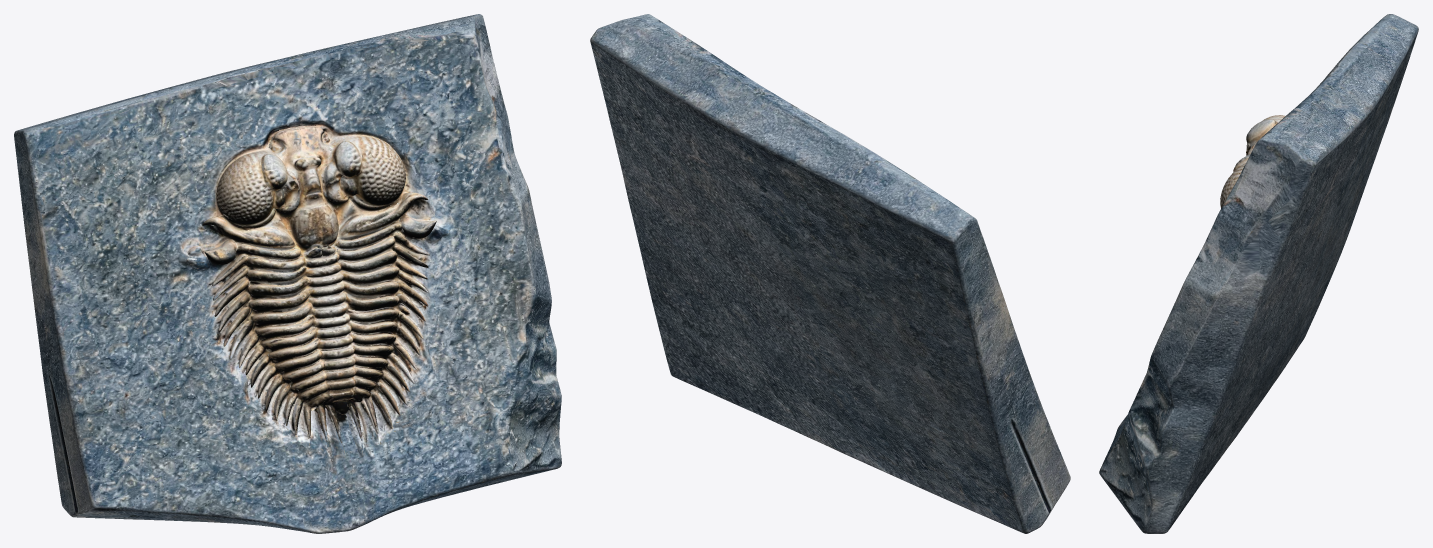
The model's file is trilobite.glb.
3 renders of one model, left to right at view 1: azimuth 30°, elevation 25°; view 2: azimuth 150°, elevation 25°; view 3: azimuth 270°, elevation 25°, orthographic. The views are drawn at different scales.
Parts seen in each view (by area): view 1: trilobite; view 2: trilobite; view 3: trilobite.
Boxes of the visible parts, x1,y1,x2,y2 form: trilobite: (14, 14, 561, 533); trilobite: (590, 14, 1070, 533); trilobite: (1099, 14, 1418, 533).
Bounding box in the file's own units: 1 × 0.8899 × 0.6709.
1 material, 1 textured.
